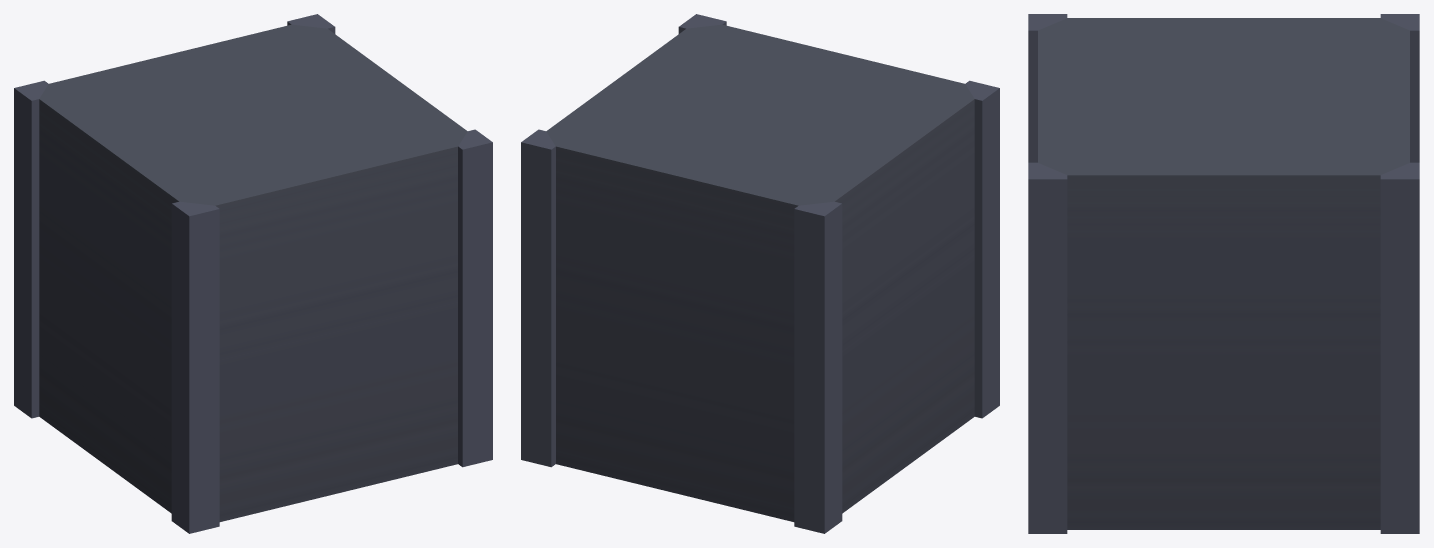
File: wall-block.glb
The picture shows the model from 3 angles, left to right: view 1: azimuth 30°, elevation 25°; view 2: azimuth 150°, elevation 25°; view 3: azimuth 270°, elevation 25°; orthographic projection. The views are drawn at different scales.
Visible parts, largest first — view 1: wall-block; view 2: wall-block; view 3: wall-block.
Boxes of the visible parts, x1,y1,x2,y2 form: wall-block: [14, 14, 492, 533]; wall-block: [521, 14, 999, 533]; wall-block: [1028, 14, 1419, 533].
Size of the model in its own units: 1 by 1 by 1.
1 material, 1 textured.
